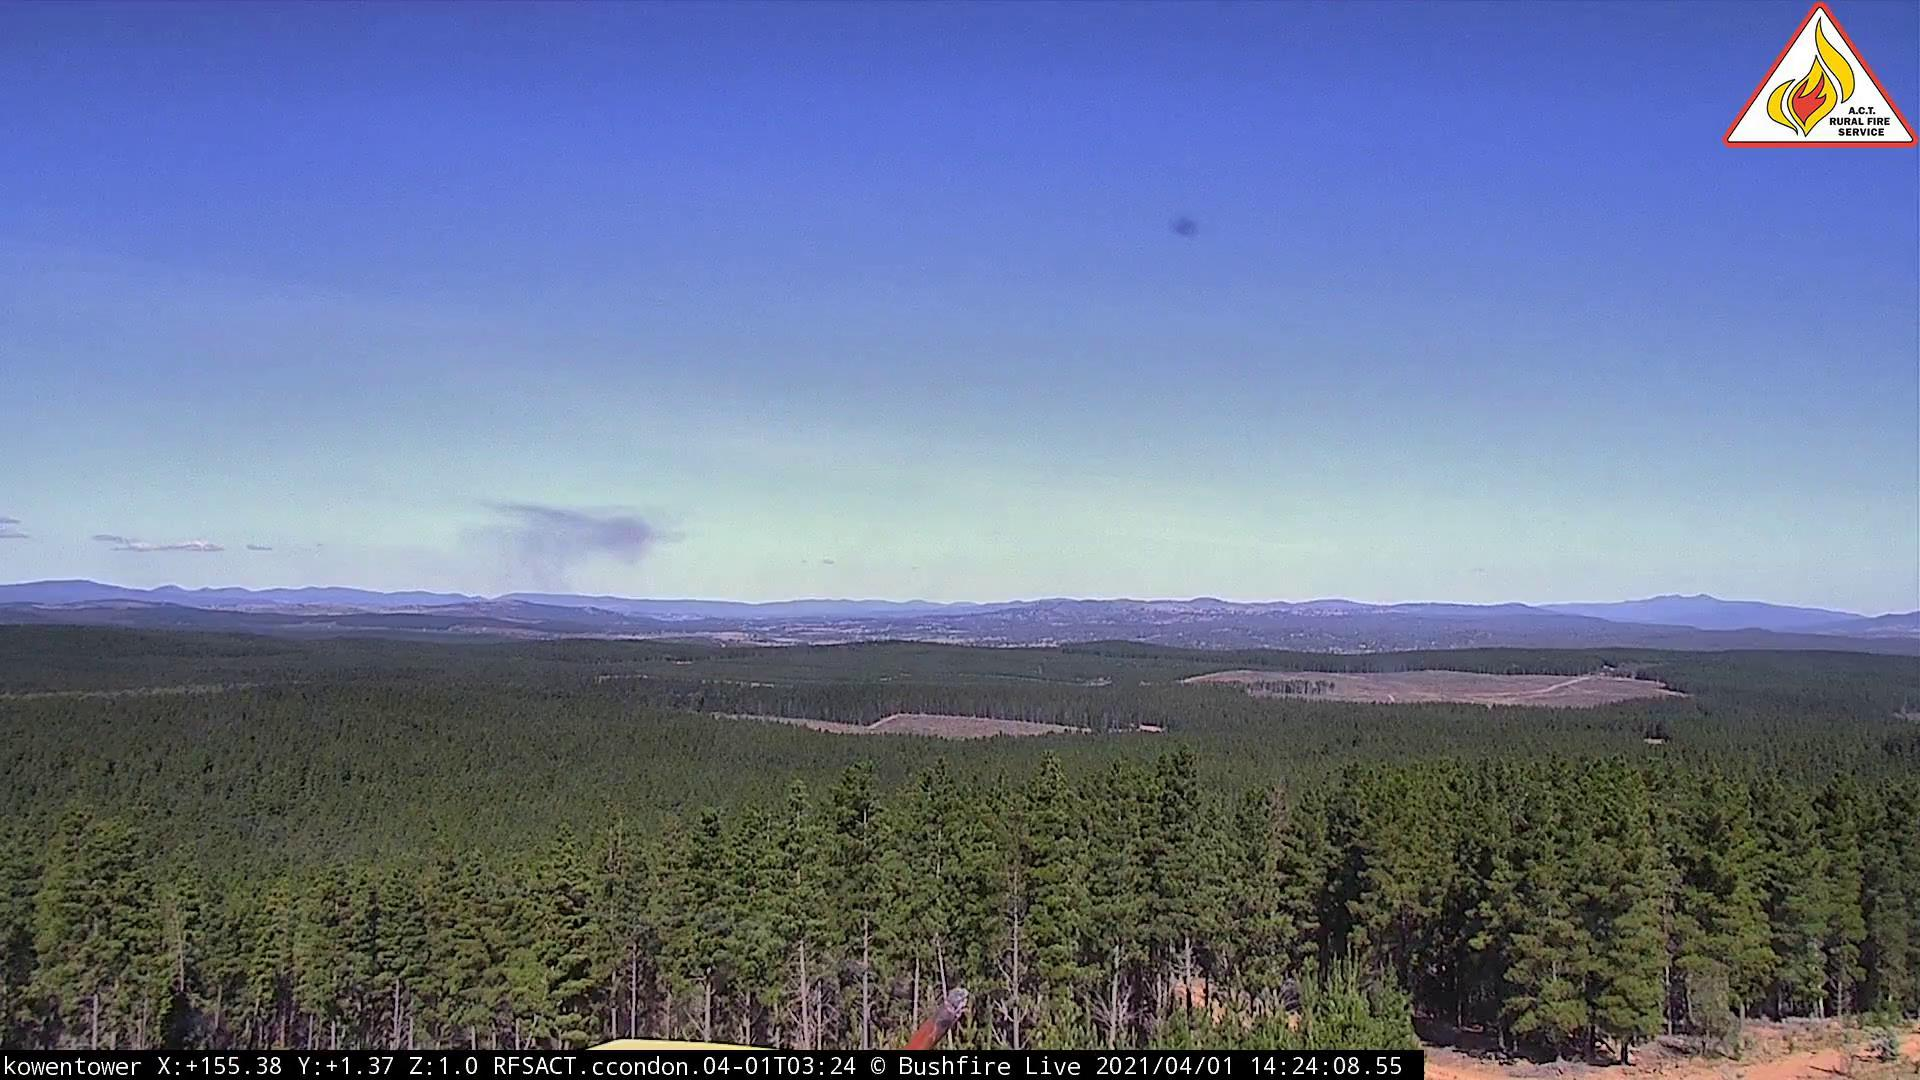Smoke: (388, 502, 699, 626)
